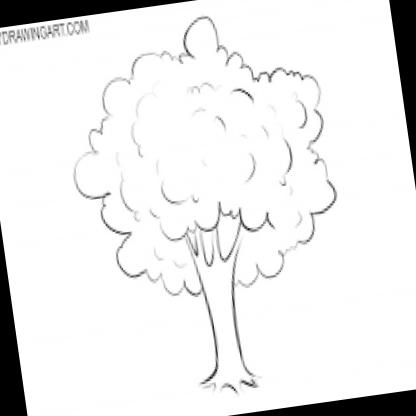branch_cut: (181, 211, 252, 278)
crown_cloud: (53, 1, 349, 313)
root_only: (196, 358, 267, 401)
trunk_straight: (203, 295, 244, 351)
